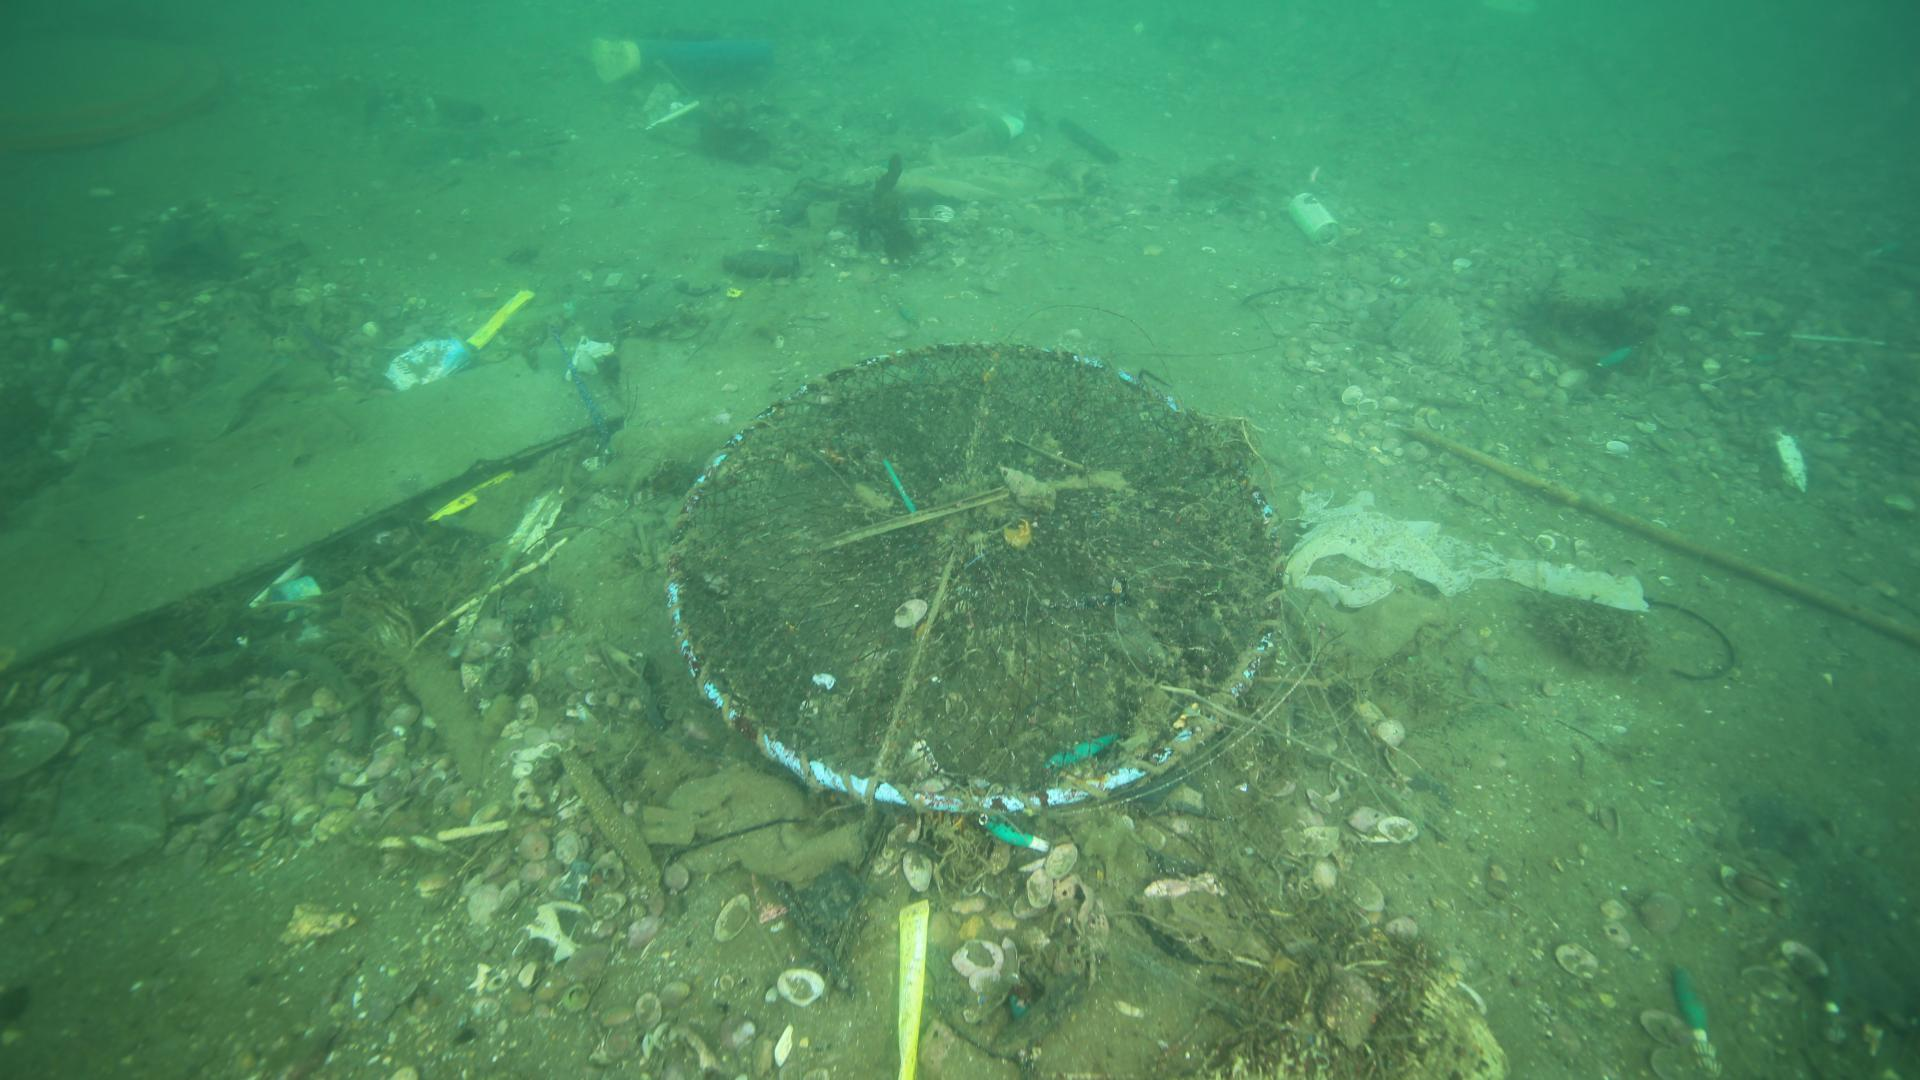circular fish trap: (661, 332, 1288, 828)
wood: (0, 330, 630, 688)
